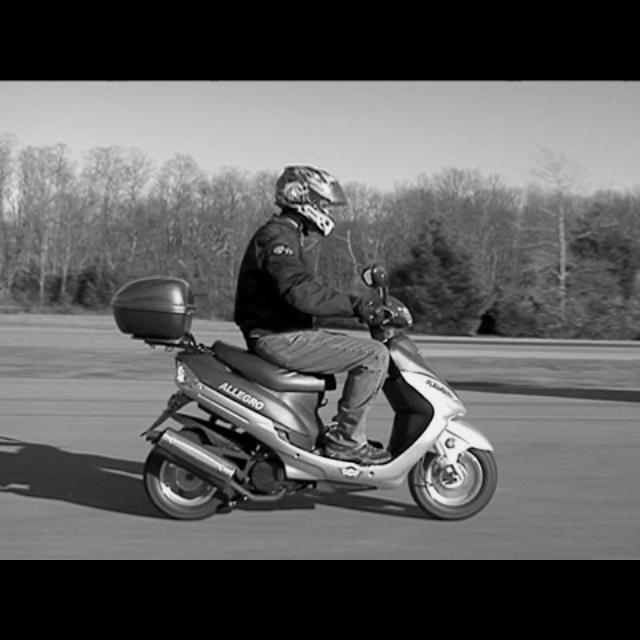With Helmet: (268, 153, 344, 237)
